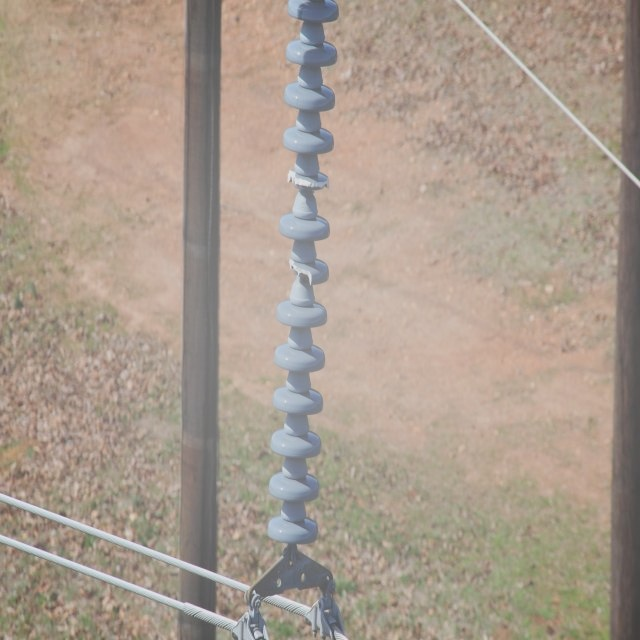broken: (288, 257, 315, 289), (285, 172, 331, 187)
insulator: (265, 0, 339, 544)
